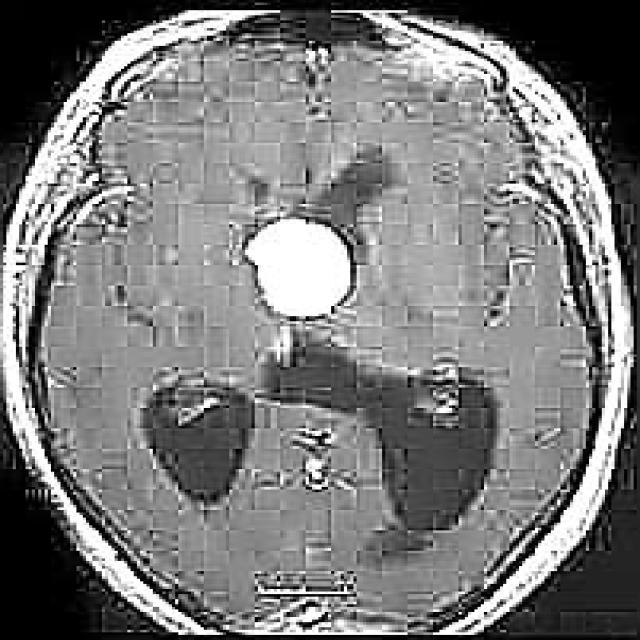Tumor-Cell: (209, 203, 382, 330)
